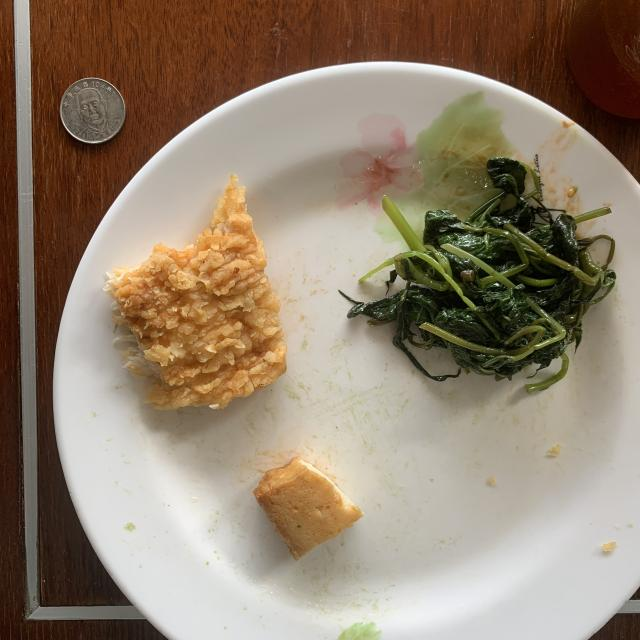coin: (60, 78, 125, 144)
creamy tofu: (254, 456, 364, 560)
fried chicken cutlet: (105, 178, 285, 409)
sweet potato leaves: (344, 158, 615, 392)
